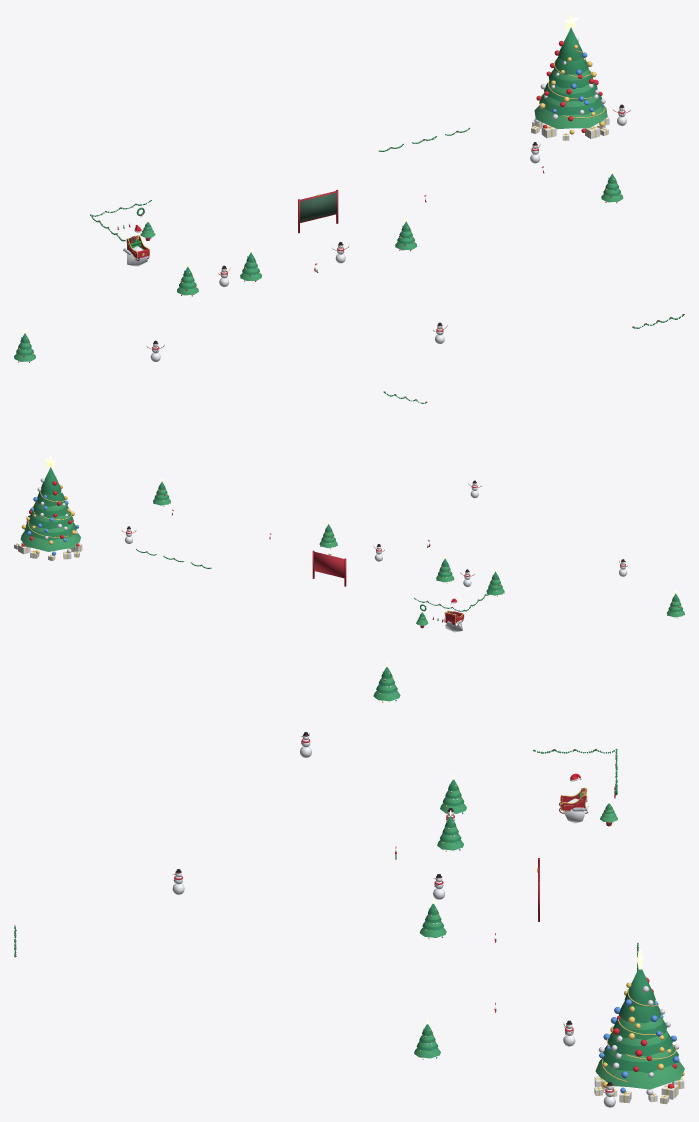
File: christmas.glb
3 renders of one model, top to bottom at view 1: azimuth 30°, elevation 25°; view 2: azimuth 150°, elevation 25°; view 3: azimuth 270°, elevation 25°, orthographic. The views are drawn at different scales.
Parts seen in each view (by area): view 1: XmasTree, XmasTree_Baubles, CountdownBoard; view 2: XmasTree, CountdownBoard, XmasTree_Baubles; view 3: XmasTree, XmasTree_Baubles.
Part boxes in pixels (x1,y1,x2,y2): XmasTree: (534,14,607,129); XmasTree_Baubles: (534,37,607,134); CountdownBoard: (298,189,338,233); XmasTree: (20,456,80,551); CountdownBoard: (312,550,346,586); XmasTree_Baubles: (21,476,79,555); XmasTree: (595,949,684,1089); XmasTree_Baubles: (596,977,684,1095).
Size of the model in its own units: 68.13 by 11.14 by 46.38.
